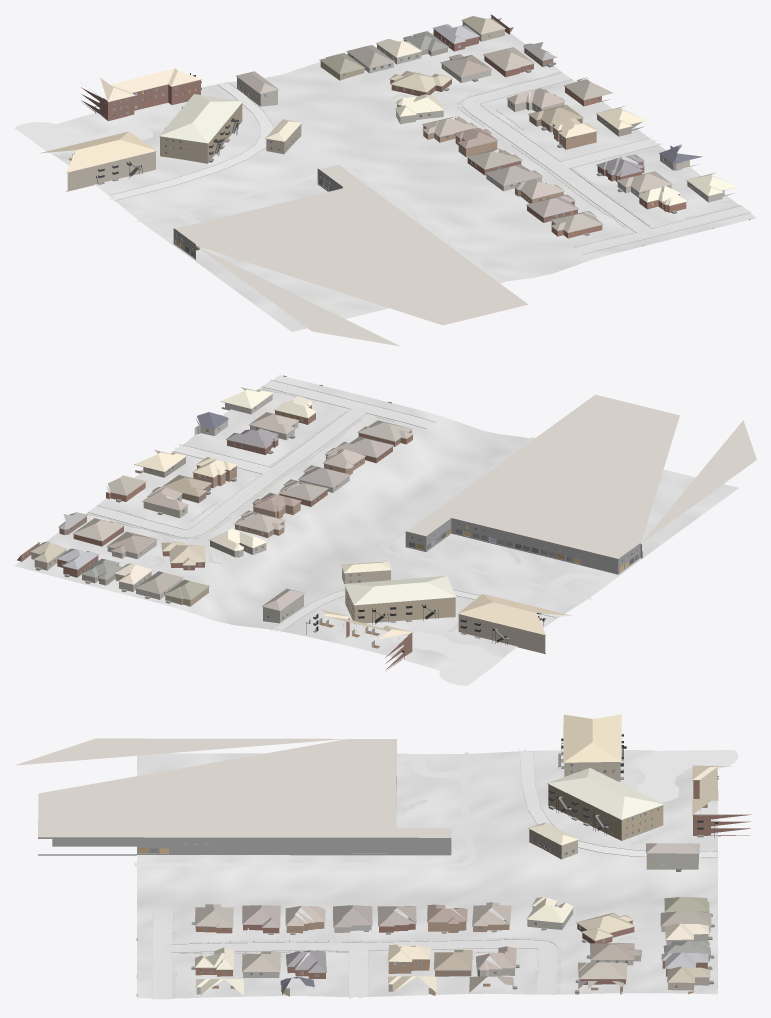
3 views of the same model, one above another, from view 1: azimuth 30°, elevation 25°; view 2: azimuth 150°, elevation 25°; view 3: azimuth 270°, elevation 25° (orthographic). The views are drawn at different scales.
Parts seen in each view (by area): view 1: ground, roof_flat, roof, wall, concrete, detail, wall_stucco, curb, water, walk, wall_stone, glass (+1 smaller); view 2: ground, roof_flat, roof, wall, concrete, wall_com, detail, water, wall_stucco, walk, curb, wall_stone (+1 smaller); view 3: ground, roof_flat, roof, concrete, wall, wall_com, water, detail, wall_stucco, walk, curb, wall_stone.
Part boxes in pixels (<box>): ground: <box>30,18,756,331</box>; roof_flat: <box>175,164,528,346</box>; roof: <box>39,16,737,232</box>; wall: <box>66,14,686,238</box>; concrete: <box>108,73,750,283</box>; detail: <box>66,15,752,257</box>; wall_stucco: <box>237,21,698,170</box>; curb: <box>111,72,750,254</box>; water: <box>14,122,153,154</box>; walk: <box>242,71,740,239</box>; wall_stone: <box>347,52,734,202</box>; glass: <box>113,18,667,257</box>; ground: <box>14,375,738,674</box>; roof_flat: <box>407,394,756,558</box>; roof: <box>30,387,571,639</box>; wall: <box>17,405,545,670</box>; concrete: <box>88,380,611,631</box>; wall_com: <box>405,518,642,574</box>; detail: <box>21,375,638,658</box>; water: <box>402,631,501,685</box>; wall_stucco: <box>31,420,303,623</box>; walk: <box>86,387,521,632</box>; curb: <box>87,380,564,631</box>; wall_stone: <box>107,394,349,599</box>; ground: <box>137,750,717,998</box>; roof_flat: <box>14,738,451,837</box>; roof: <box>194,714,731,995</box>; concrete: <box>134,749,720,999</box>; wall: <box>195,762,751,994</box>; wall_com: <box>38,776,451,855</box>; water: <box>636,750,737,802</box>; detail: <box>136,736,724,996</box>; wall_stucco: <box>281,853,709,991</box>; walk: <box>172,783,651,998</box>; curb: <box>152,749,720,998</box>; wall_stone: <box>196,925,710,994</box>.
Bounding box in the file's own units: 273 × 18.32 × 320.
